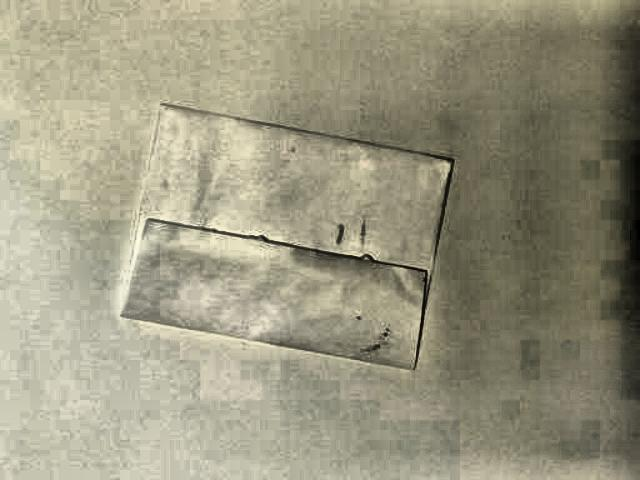Paper: (110, 98, 462, 396)
